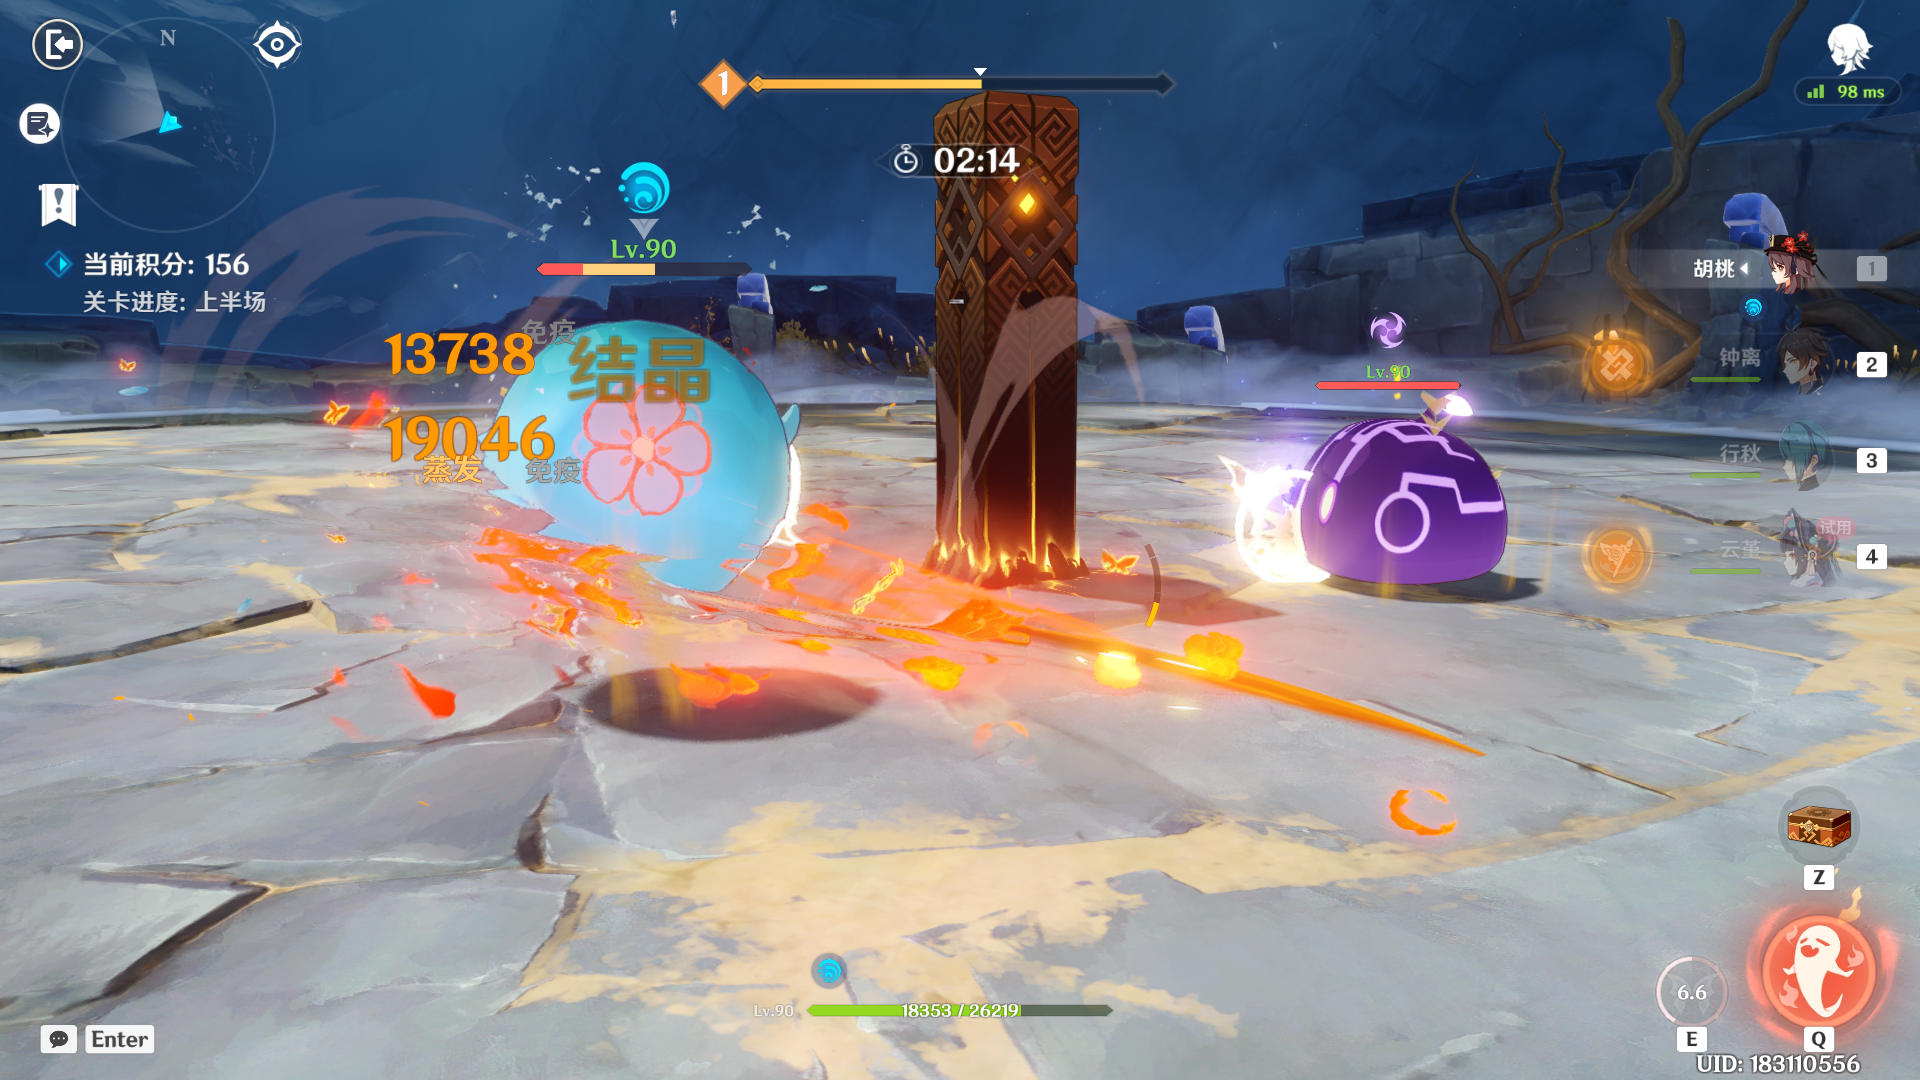slime: (483, 313, 808, 632), (1276, 398, 1524, 615)
